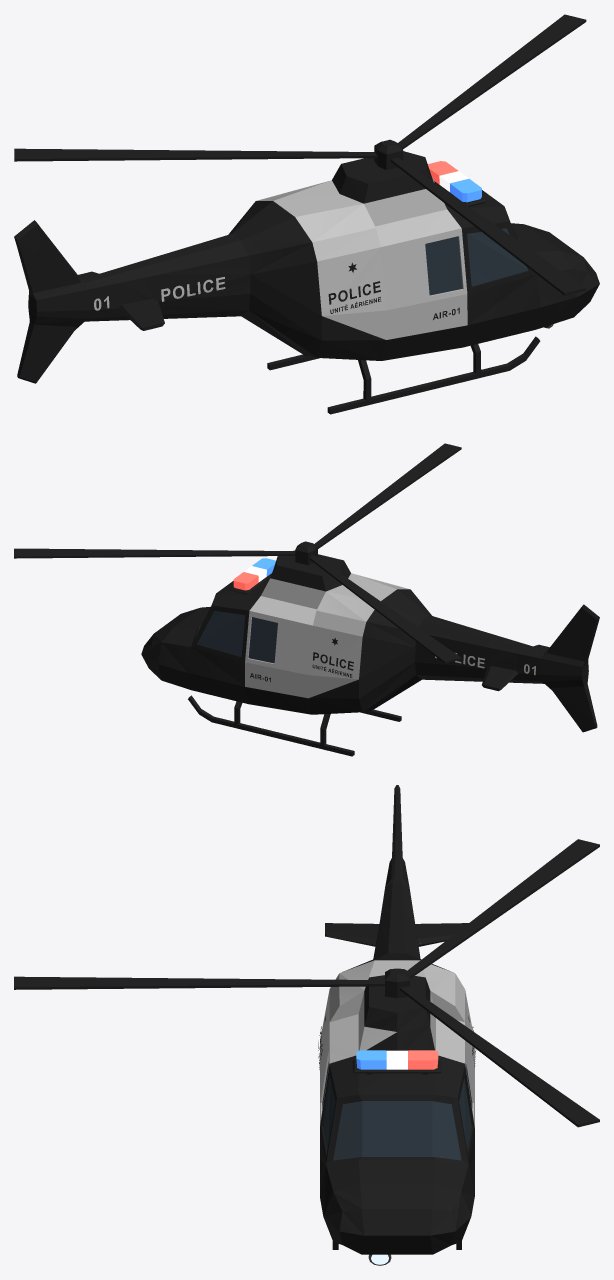
Rendered from Helicopter.glb.
3 renders of one model, top to bottom at view 1: azimuth 30°, elevation 25°; view 2: azimuth 150°, elevation 25°; view 3: azimuth 270°, elevation 25°, orthographic. The views are drawn at different scales.
Parts seen in each view (by area): view 1: Helicoptere_Police_Carrosserie, Rotor_Main, Gyrophare_Bleu_Blanc_Rouge; view 2: Helicoptere_Police_Carrosserie, Rotor_Main, Gyrophare_Bleu_Blanc_Rouge; view 3: Helicoptere_Police_Carrosserie, Rotor_Main, Gyrophare_Bleu_Blanc_Rouge.
Part boxes in pixels (x1,y1,x2,y2): Helicoptere_Police_Carrosserie: (14,139,599,414); Rotor_Main: (14,14,586,295); Gyrophare_Bleu_Blanc_Rouge: (427,161,481,202); Helicoptere_Police_Carrosserie: (141,541,599,756); Rotor_Main: (14,443,461,663); Gyrophare_Bleu_Blanc_Rouge: (233,558,275,590); Helicoptere_Police_Carrosserie: (320,785,474,1254); Rotor_Main: (14,839,599,1127); Gyrophare_Bleu_Blanc_Rouge: (356,1050,438,1069).
Bounding box in the file's own units: 29.34 × 10 × 22.02.
